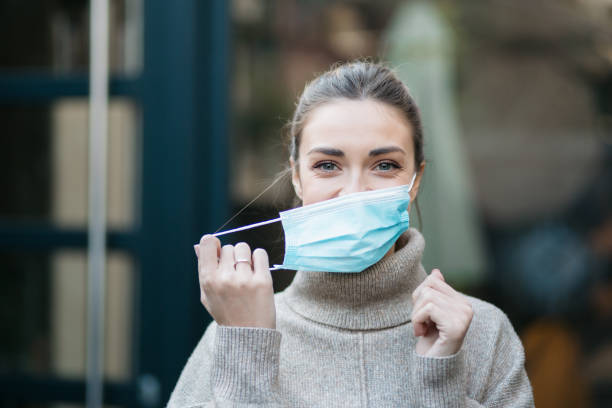with mask: (279, 75, 435, 281)
